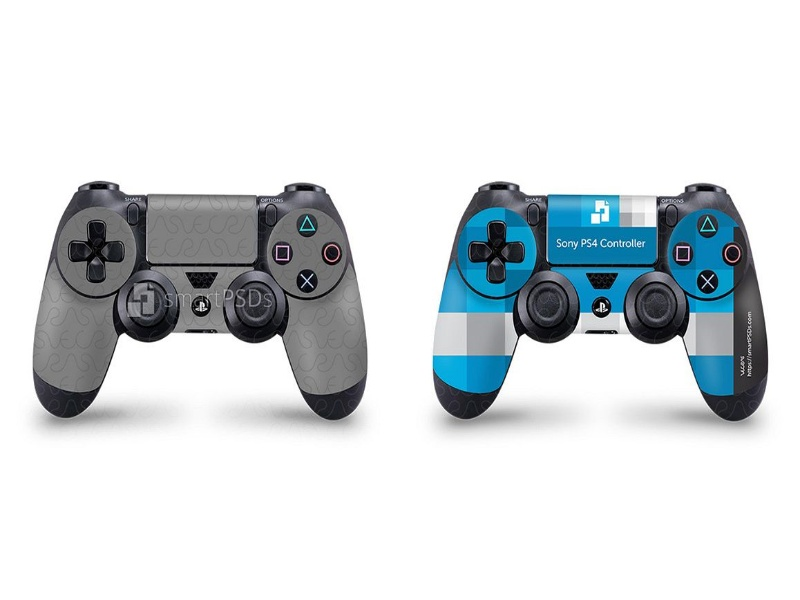ps4 joystick: (30, 178, 370, 427)
